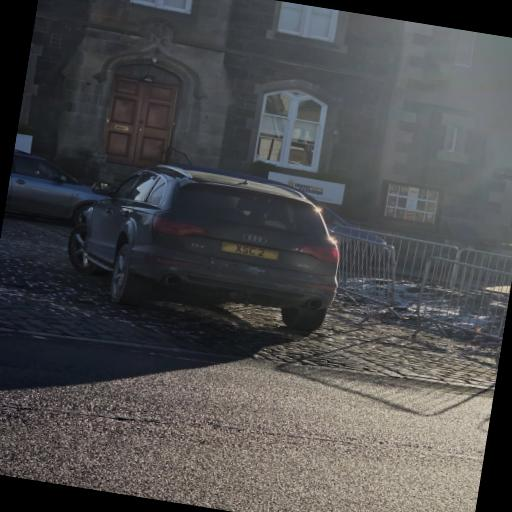numberplates: (221, 242, 278, 260)
